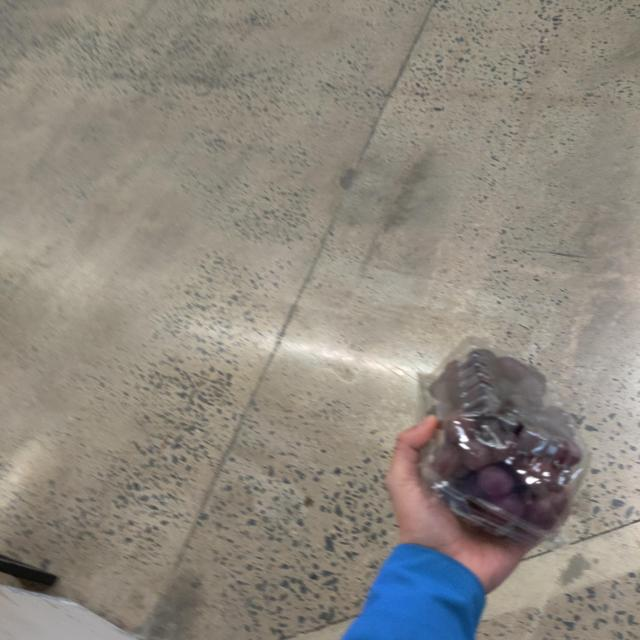Grapes: (398, 324, 590, 551)
